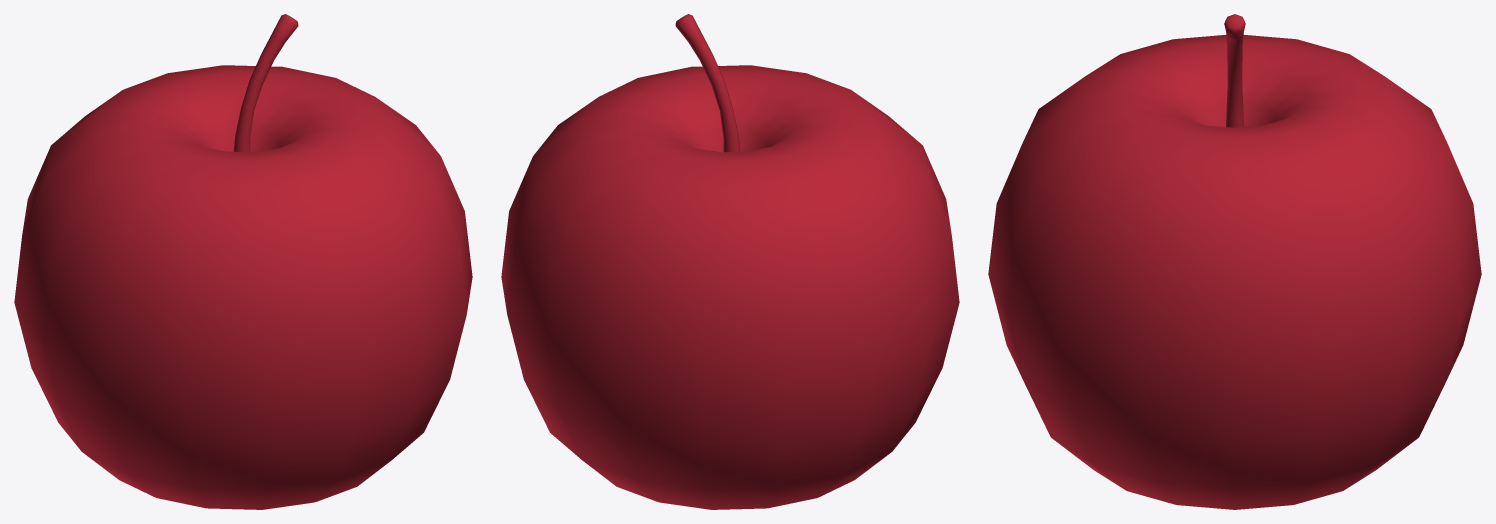
File: apple.glb
3 renders of one model, left to right at view 1: azimuth 30°, elevation 25°; view 2: azimuth 150°, elevation 25°; view 3: azimuth 270°, elevation 25°, orthographic. The views are drawn at different scales.
Parts seen in each view (by area): view 1: apple; view 2: apple; view 3: apple.
Boxes of the visible parts, x1,y1,x2,y2 form: apple: [14, 14, 472, 509]; apple: [501, 14, 959, 509]; apple: [988, 14, 1481, 509].
Size of the model in its own units: 0.09 by 0.0945 by 0.09.
